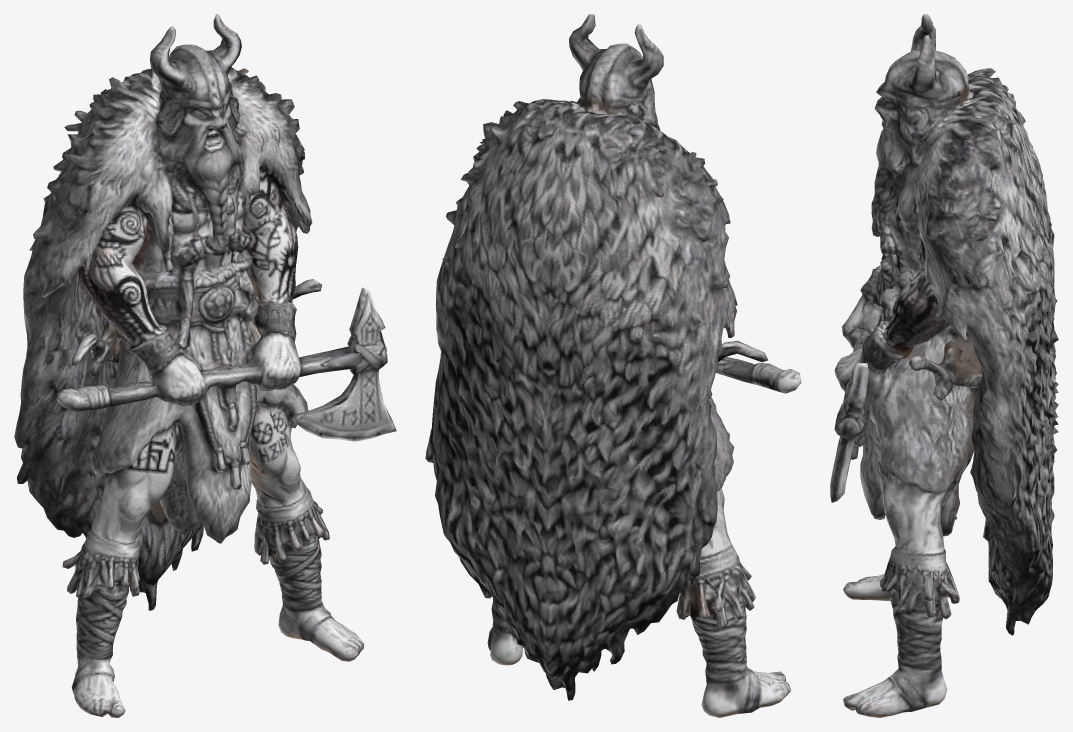
File: Wodan_Berserker.glb
3 renders of one model, left to right at view 1: azimuth 30°, elevation 25°; view 2: azimuth 150°, elevation 25°; view 3: azimuth 270°, elevation 25°, orthographic. The views are drawn at different scales.
Bounding box in the file's own units: 0.9628 × 1.91 × 0.6262.
Materials: 1 (1 with a texture image).
